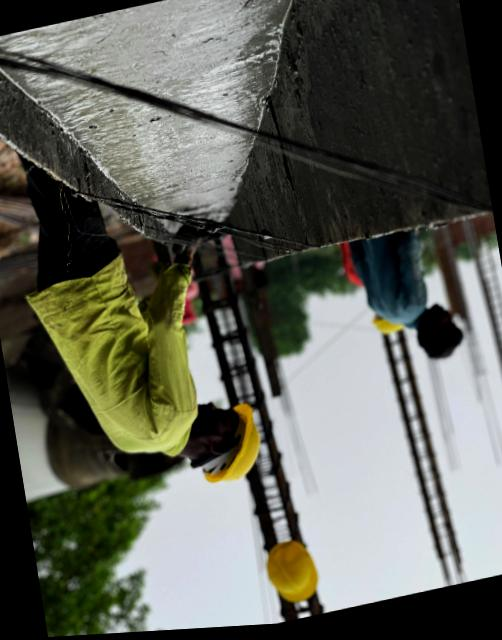helmet: (204, 402, 274, 495)
